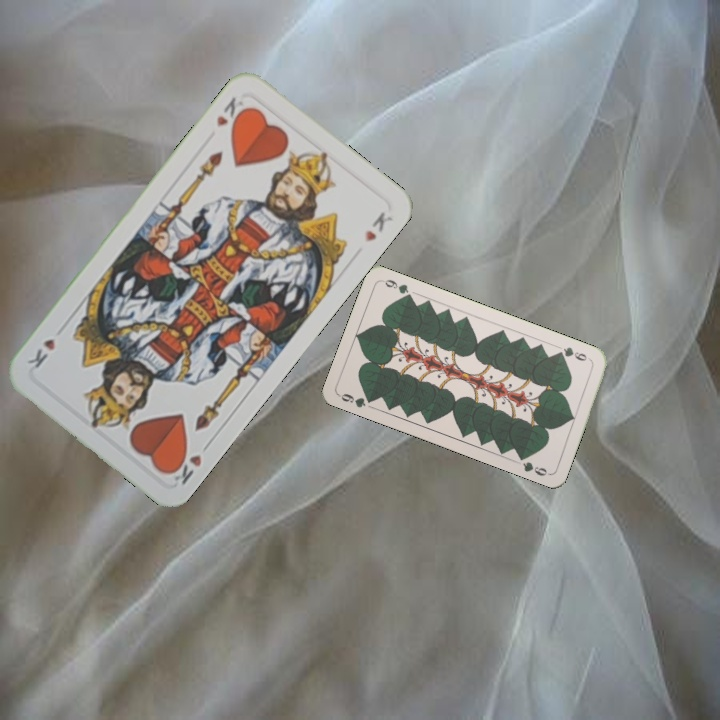G9: (335, 389, 377, 410), (553, 343, 594, 364)
HK: (165, 437, 214, 488), (212, 92, 250, 132)
